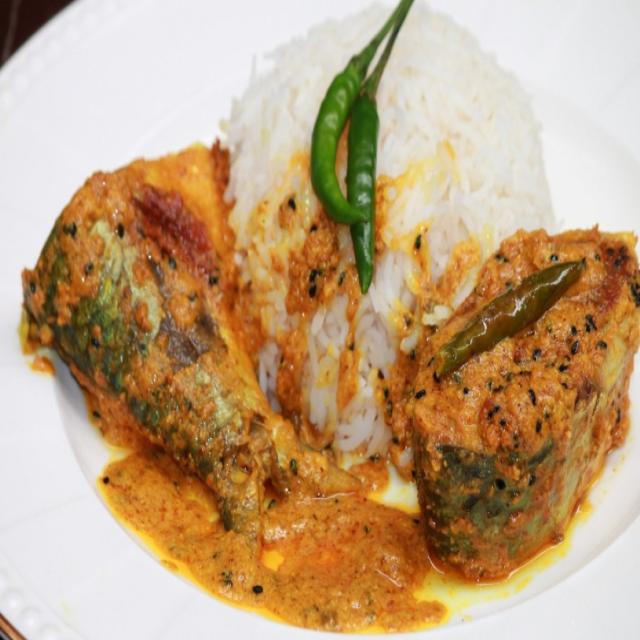FISH CURRY: (23, 147, 639, 629)
RICE: (301, 2, 554, 466), (224, 5, 389, 406)
